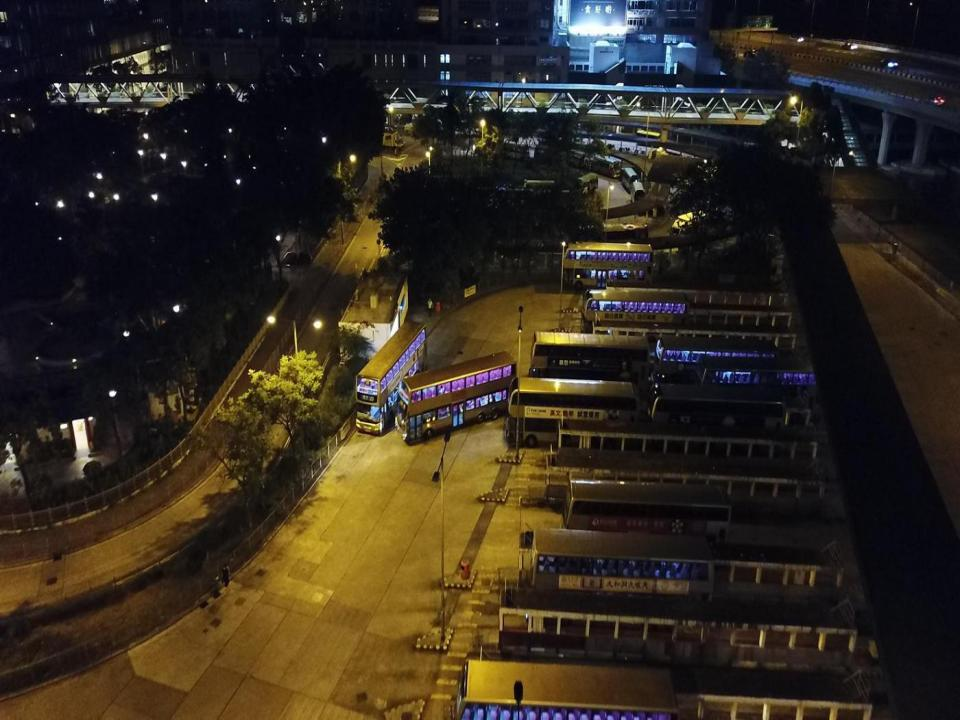bus: (532, 527, 714, 617), (562, 477, 732, 550), (396, 350, 518, 442), (647, 383, 788, 456), (506, 376, 642, 448), (696, 354, 828, 417), (356, 322, 428, 436), (656, 337, 779, 398), (530, 332, 650, 390), (583, 288, 688, 349), (561, 243, 654, 294), (573, 224, 648, 255), (522, 178, 556, 200), (592, 154, 621, 178), (499, 140, 530, 162), (534, 144, 565, 164), (573, 172, 598, 195), (631, 181, 645, 213), (567, 150, 590, 169), (622, 167, 638, 191)
car: (743, 49, 762, 60), (878, 56, 898, 66), (928, 93, 944, 104), (839, 41, 857, 49), (789, 34, 803, 41)
truck: (670, 212, 707, 241), (373, 127, 404, 150)
